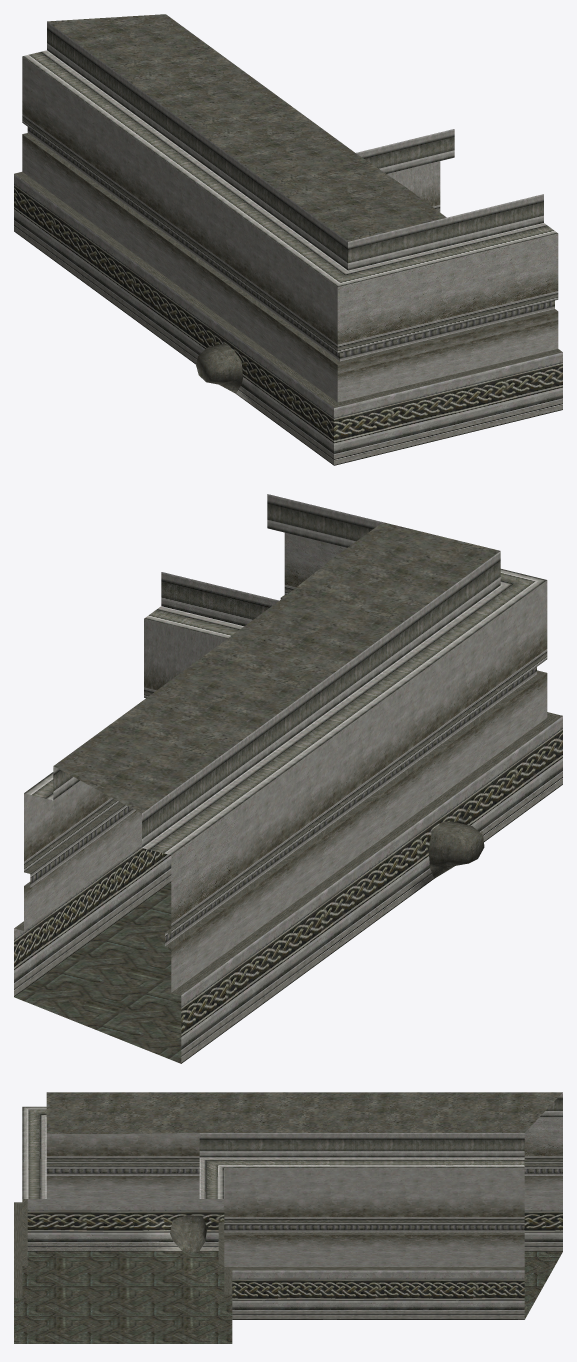
Rendered from DWARF_PALACE_GEAR_ROOM_HALLWAYB.fbx.
3 views of the same model, one above another, from view 1: azimuth 30°, elevation 25°; view 2: azimuth 150°, elevation 25°; view 3: azimuth 270°, elevation 25° (orthographic). The views are drawn at different scales.
Visible parts, largest first — view 1: DWARF_PALACE_GEAR_ROOM_HALLWAYB; view 2: DWARF_PALACE_GEAR_ROOM_HALLWAYB; view 3: DWARF_PALACE_GEAR_ROOM_HALLWAYB.
Boxes of the visible parts, x1=… form: DWARF_PALACE_GEAR_ROOM_HALLWAYB: x1=14, y1=14, x2=562, y2=465; DWARF_PALACE_GEAR_ROOM_HALLWAYB: x1=14, y1=494, x2=562, y2=1063; DWARF_PALACE_GEAR_ROOM_HALLWAYB: x1=14, y1=1092, x2=562, y2=1343.
Size of the model in its own units: 93288 by 70000 by 201134.
7 materials, 7 textured.
